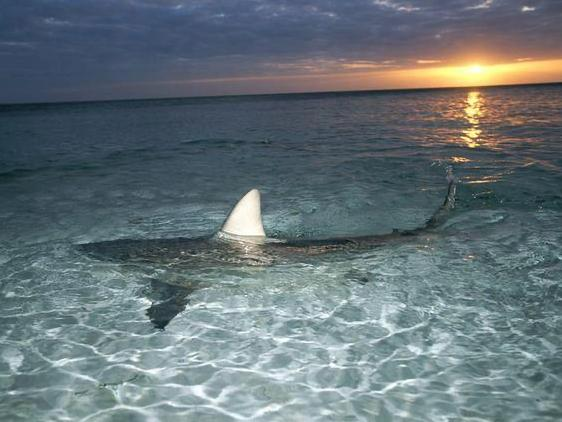Shark -Selachimorpha-: (70, 178, 456, 330)
